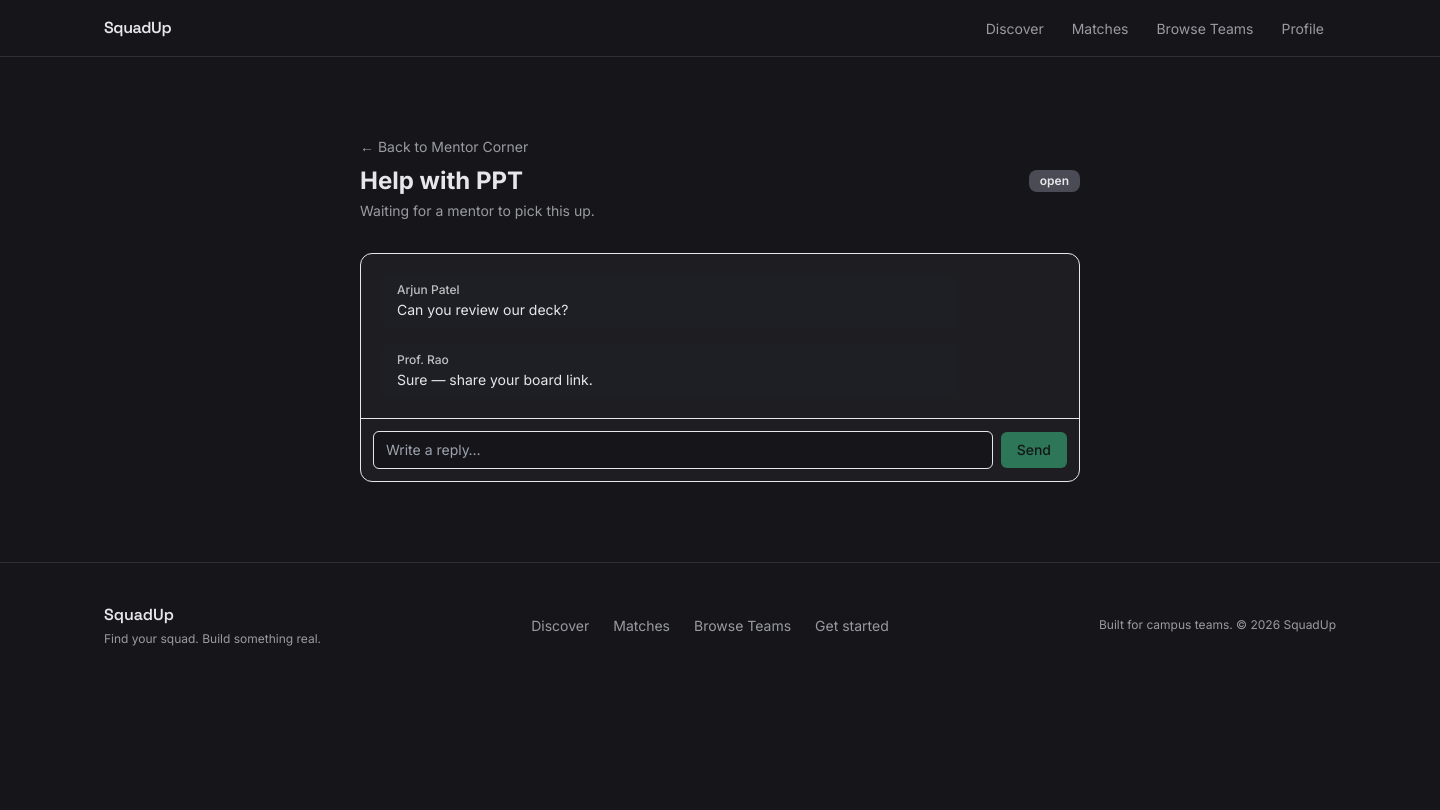
Scenario: ticket thread — /team/[id]/tickets/[ticketId] › posts a reply through the form
This screenshot has width=1440, height=810.
Expected: the heading "Help with PPT" is shown, [360,165,523,197]
Type "Here it is: /team/t1/board" into the field labelled "Write a reply…" at x=683, y=450, box [373,431,993,469]
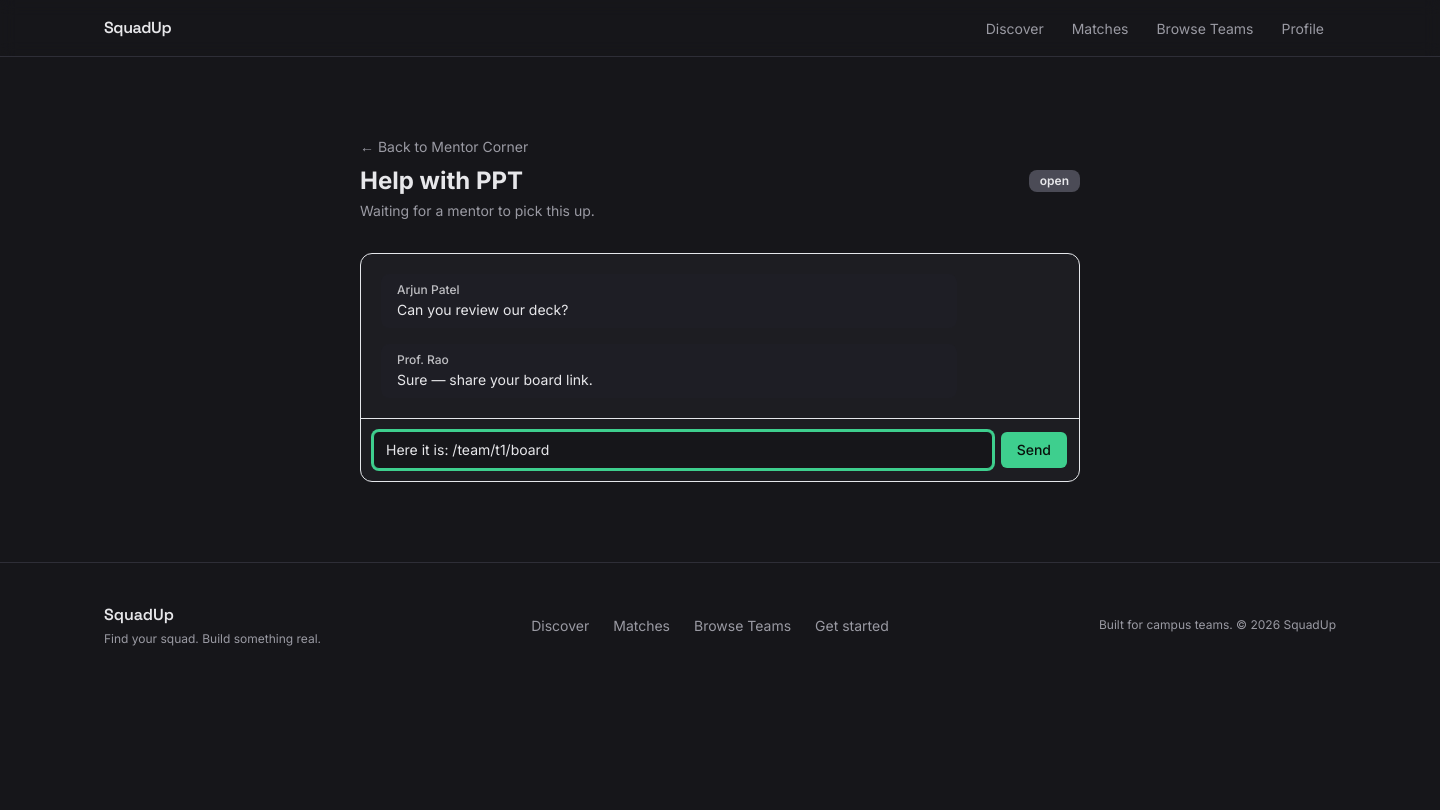
Click the button "Send" at x=1034, y=450, box [1001,432,1067,468]
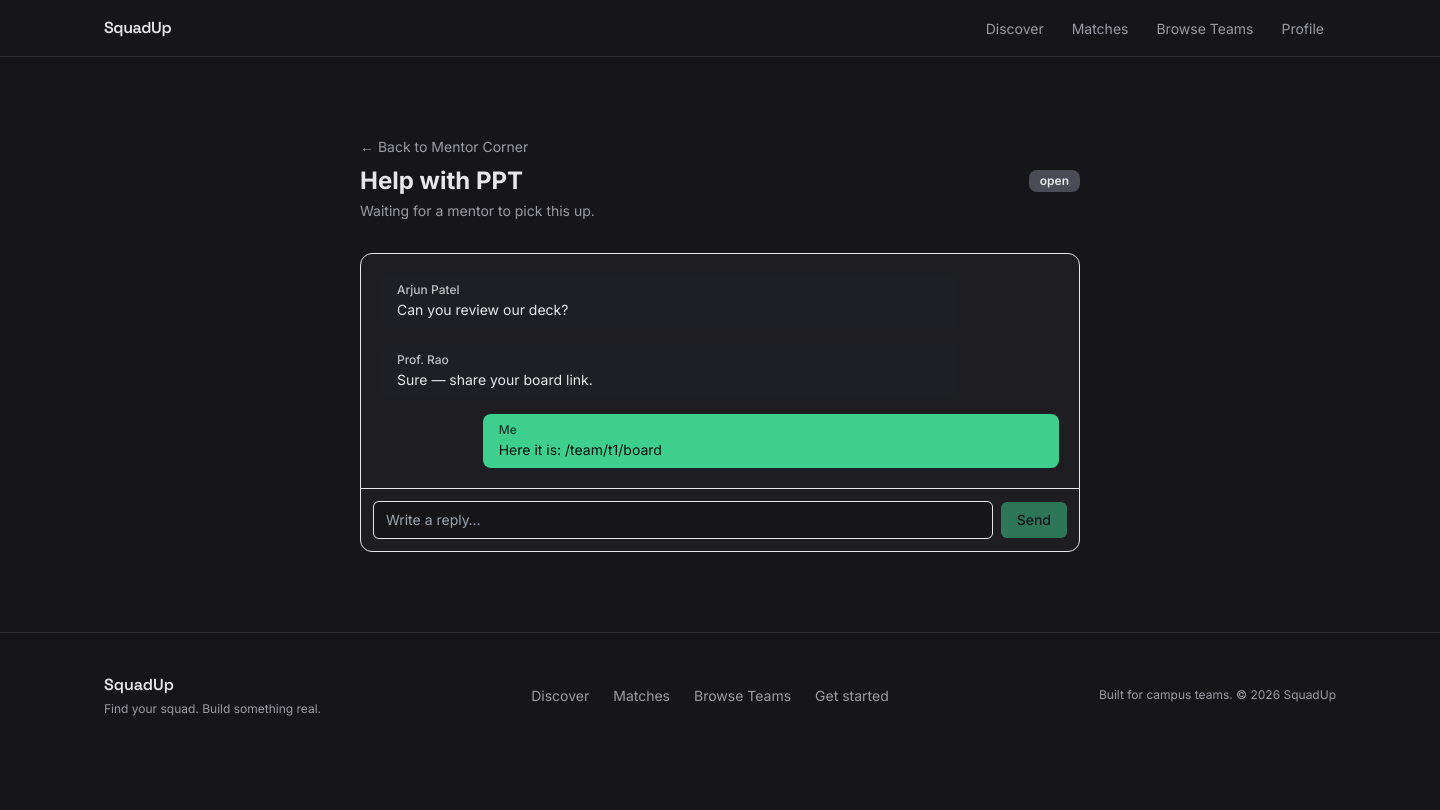
Expected: the text "Here it is: /team/t1/board" is shown, [499,441,662,458]
